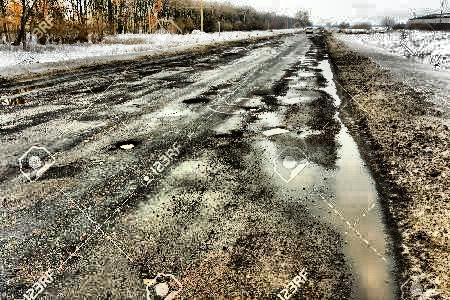pothole: (261, 125, 291, 136), (115, 139, 137, 150), (181, 96, 209, 104), (253, 91, 267, 98), (245, 105, 258, 111)
